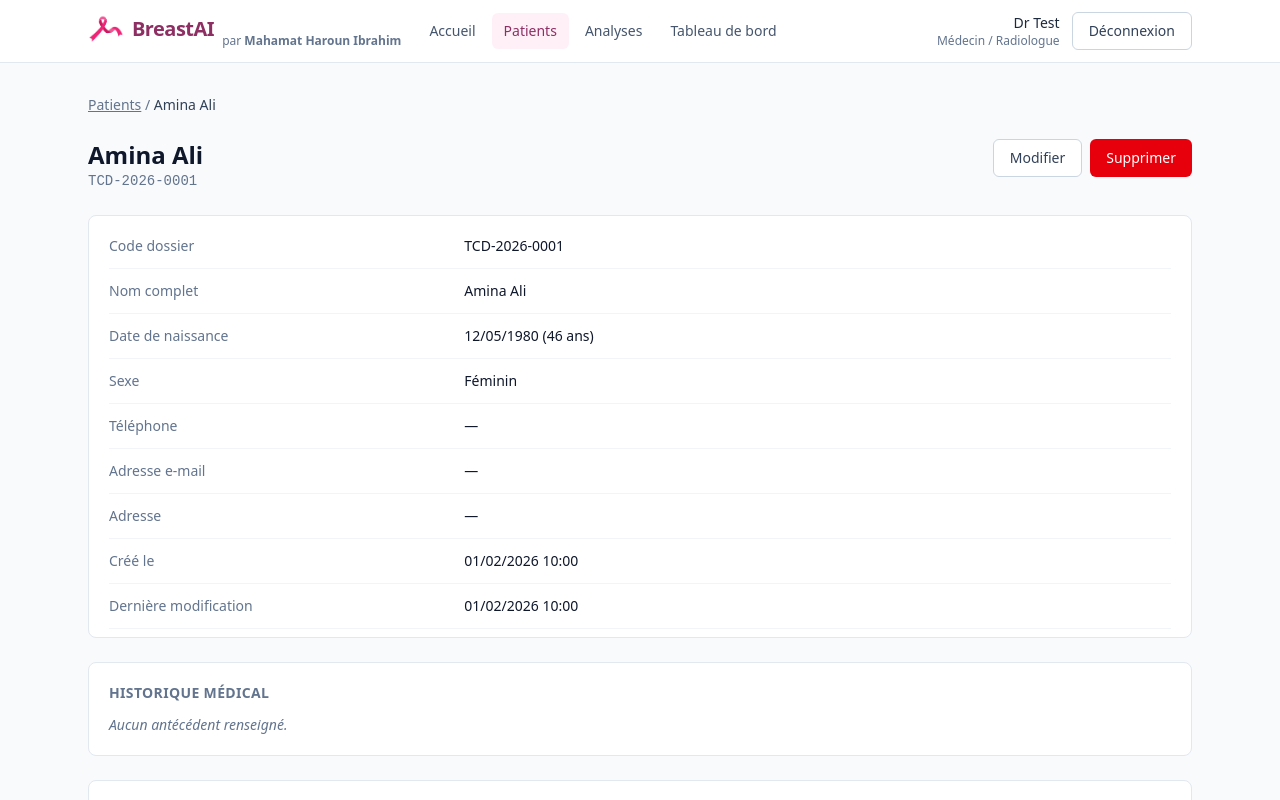
Test case: Fiche patient › demande confirmation avant suppression
Check: the heading "Amina Ali" is shown, box left=88, top=139, right=203, bottom=171
Click the button "Supprimer".
click(1141, 158)  # box left=1090, top=139, right=1192, bottom=177
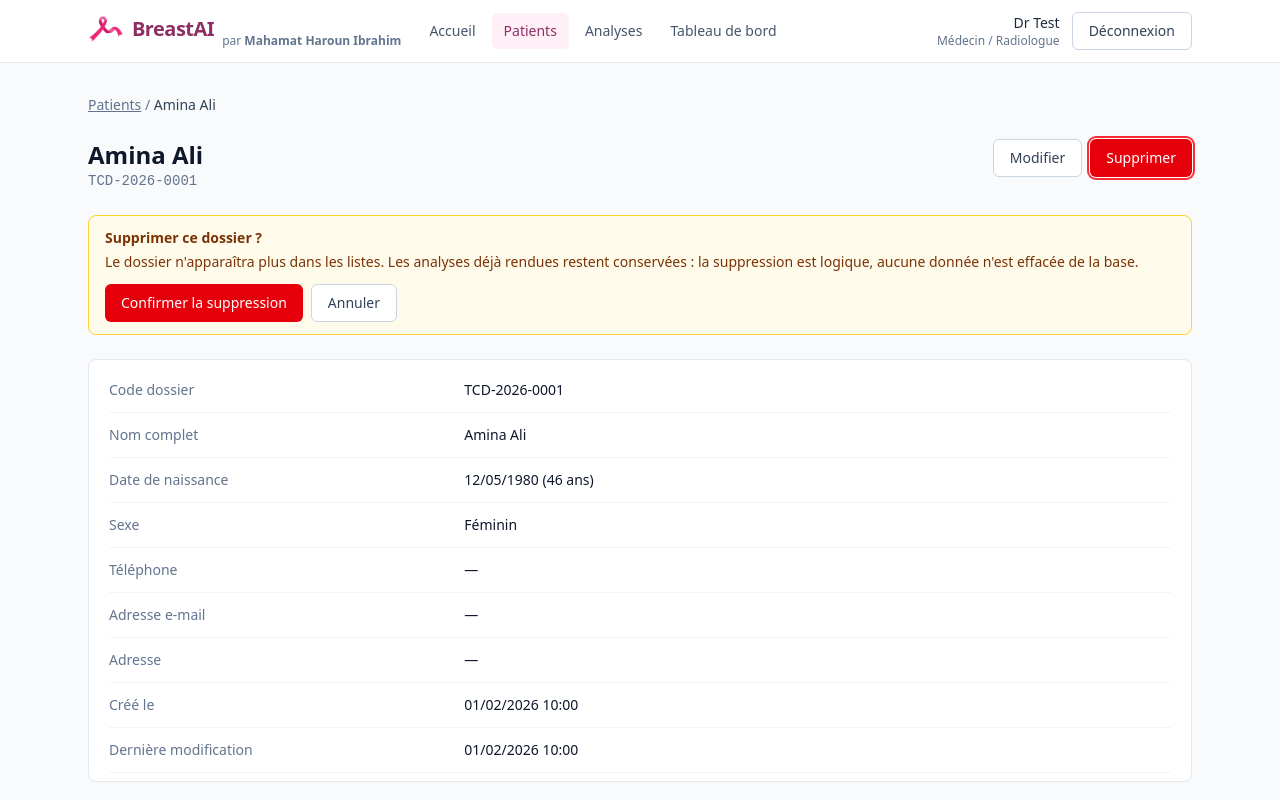
Check: the text "Supprimer ce dossier ?" is shown, box left=105, top=228, right=262, bottom=247
